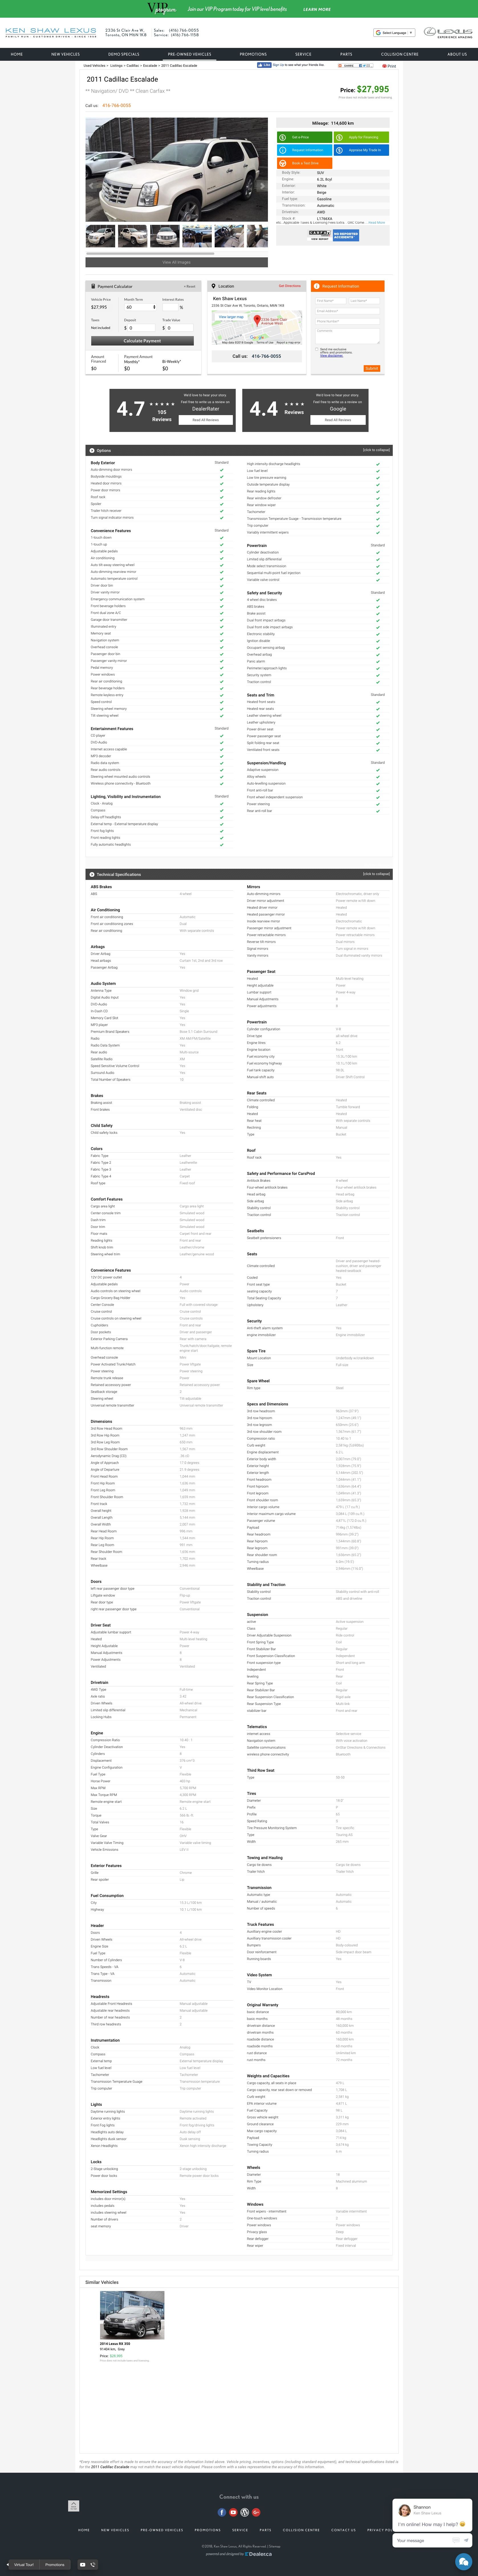car: (260, 182, 266, 189)
